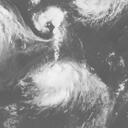cyclone: (27, 60, 90, 109)
